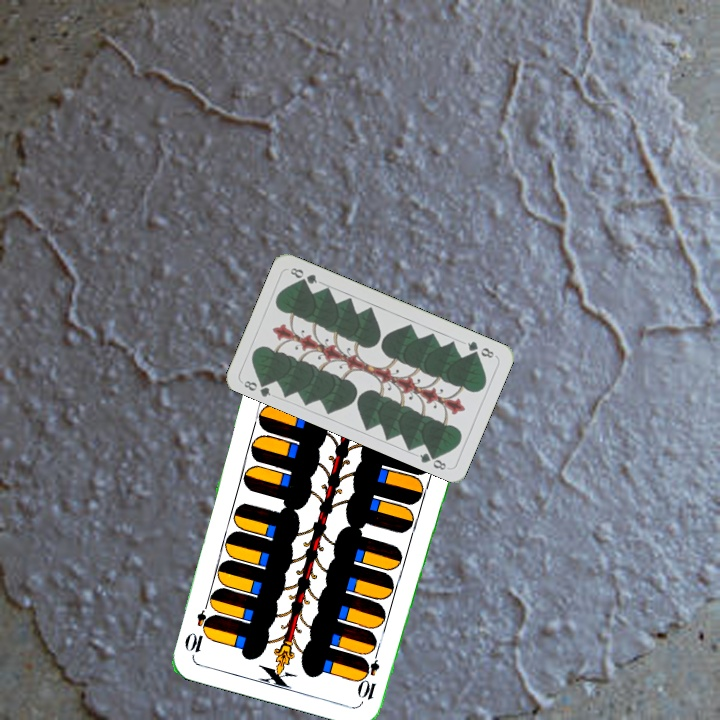E10: (357, 643, 383, 702)
G8: (463, 337, 497, 361), (240, 375, 273, 399)
